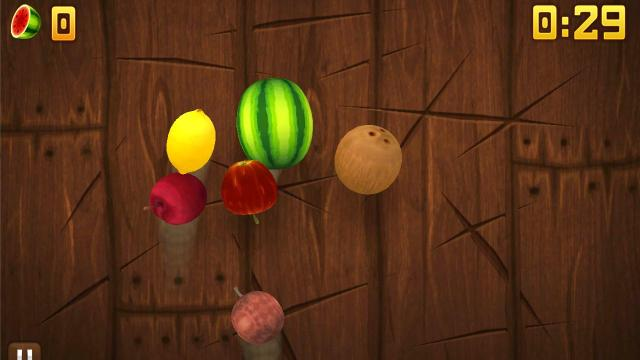fruit: (233, 78, 315, 165), (334, 122, 404, 195), (162, 106, 220, 172), (218, 160, 280, 216), (146, 173, 207, 225), (230, 288, 286, 344)
